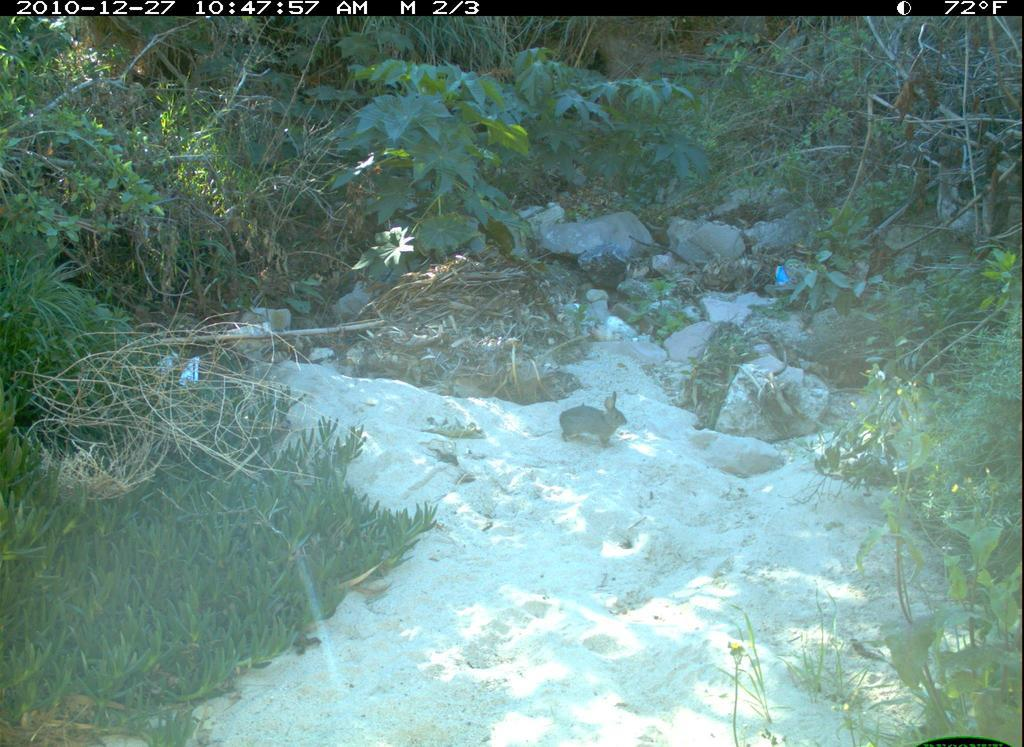rabbit: (550, 385, 640, 455)
